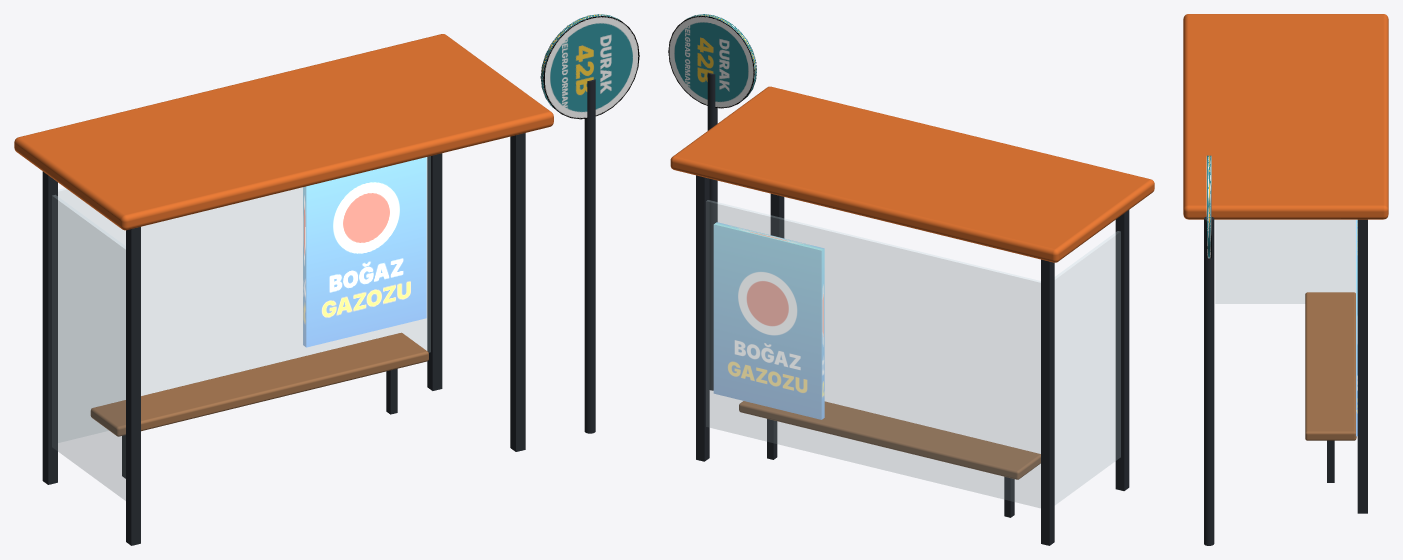
Rendered from durak.glb.
3 views of the same model, side by side, from view 1: azimuth 30°, elevation 25°; view 2: azimuth 150°, elevation 25°; view 3: azimuth 270°, elevation 25° (orthographic). The views are drawn at different scales.
Parts seen in each view (by area): view 1: durak; view 2: durak; view 3: durak.
Part boxes in pixels (box(x1,y1,x2,y2)): durak: box(14, 14, 639, 545); durak: box(668, 14, 1154, 545); durak: box(1183, 14, 1388, 545).
Bounding box in the file's own units: 4.4 × 3.3 × 1.6.
6 materials, 2 textured.
